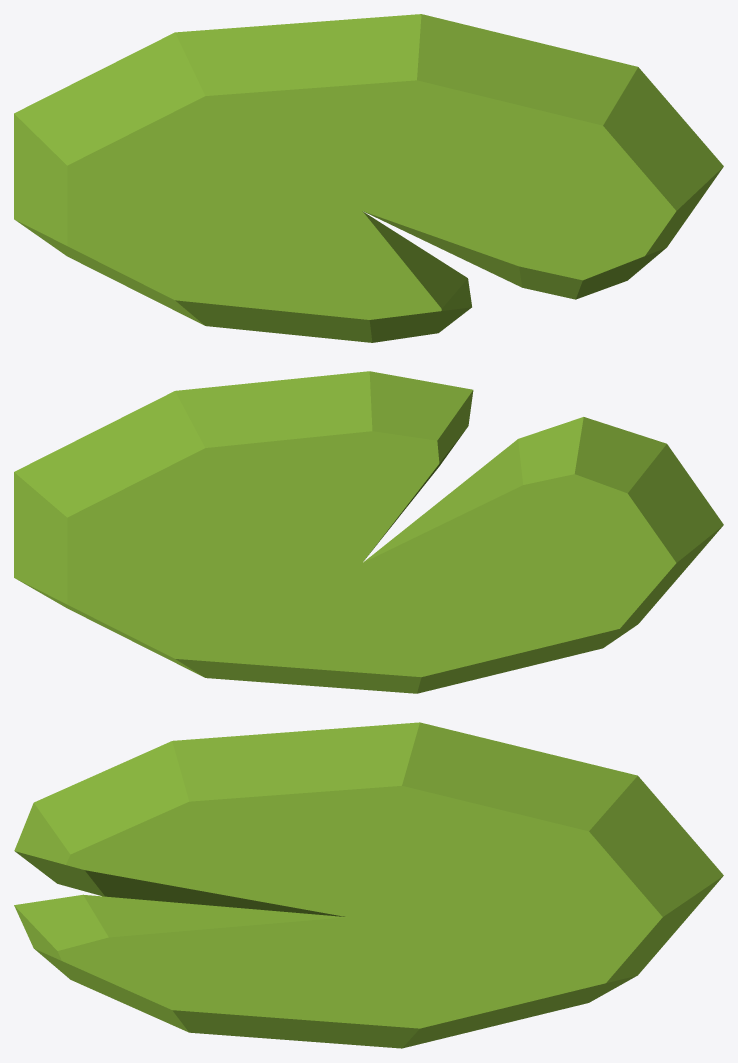
Rendered from SM_Waterlily_Single_Mature_A.fbx.
3 views of the same model, one above another, from view 1: azimuth 30°, elevation 25°; view 2: azimuth 150°, elevation 25°; view 3: azimuth 270°, elevation 25° (orthographic).
Visible parts, largest first — view 1: waterlily-single-mature-a; view 2: waterlily-single-mature-a; view 3: waterlily-single-mature-a.
Boxes of the visible parts, x1,y1,x2,y2 form: waterlily-single-mature-a: [14, 14, 723, 342]; waterlily-single-mature-a: [14, 371, 723, 693]; waterlily-single-mature-a: [14, 722, 723, 1048].
Bounding box in the file's own units: 0.311 × 0.0197 × 0.3047.
